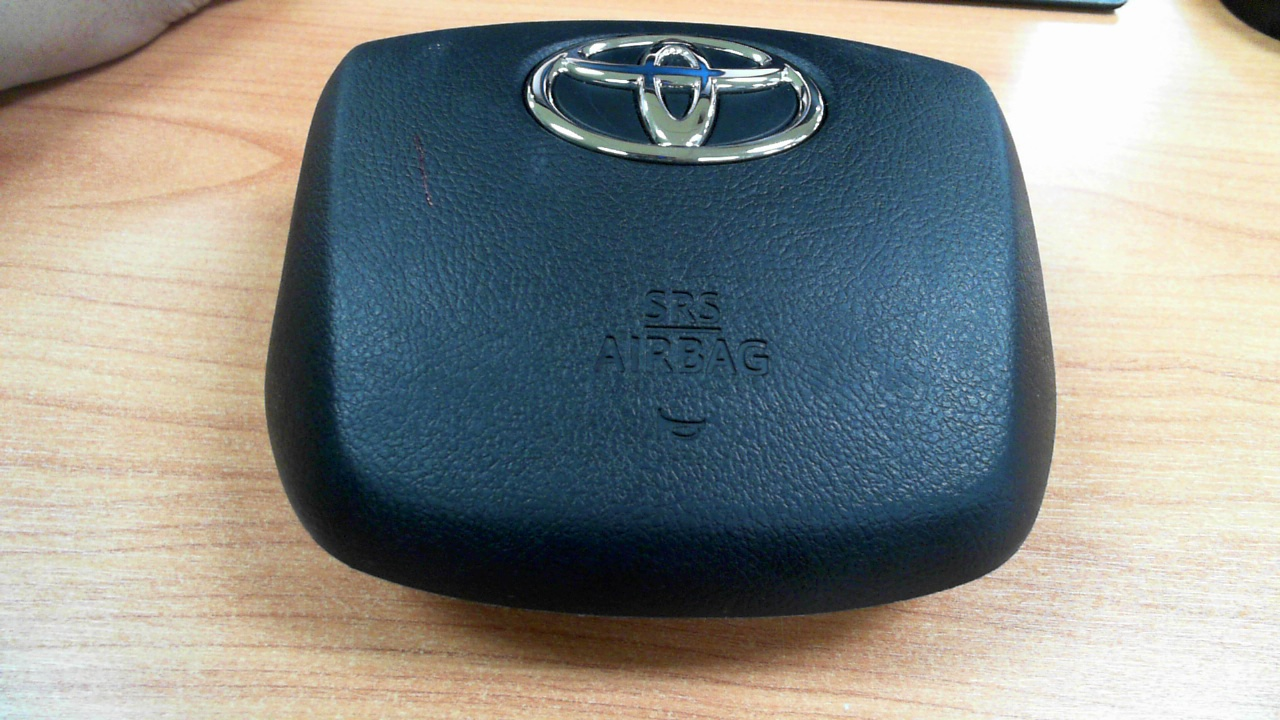Airbag: (264, 19, 1056, 620)
Toyota: (526, 32, 824, 164)
